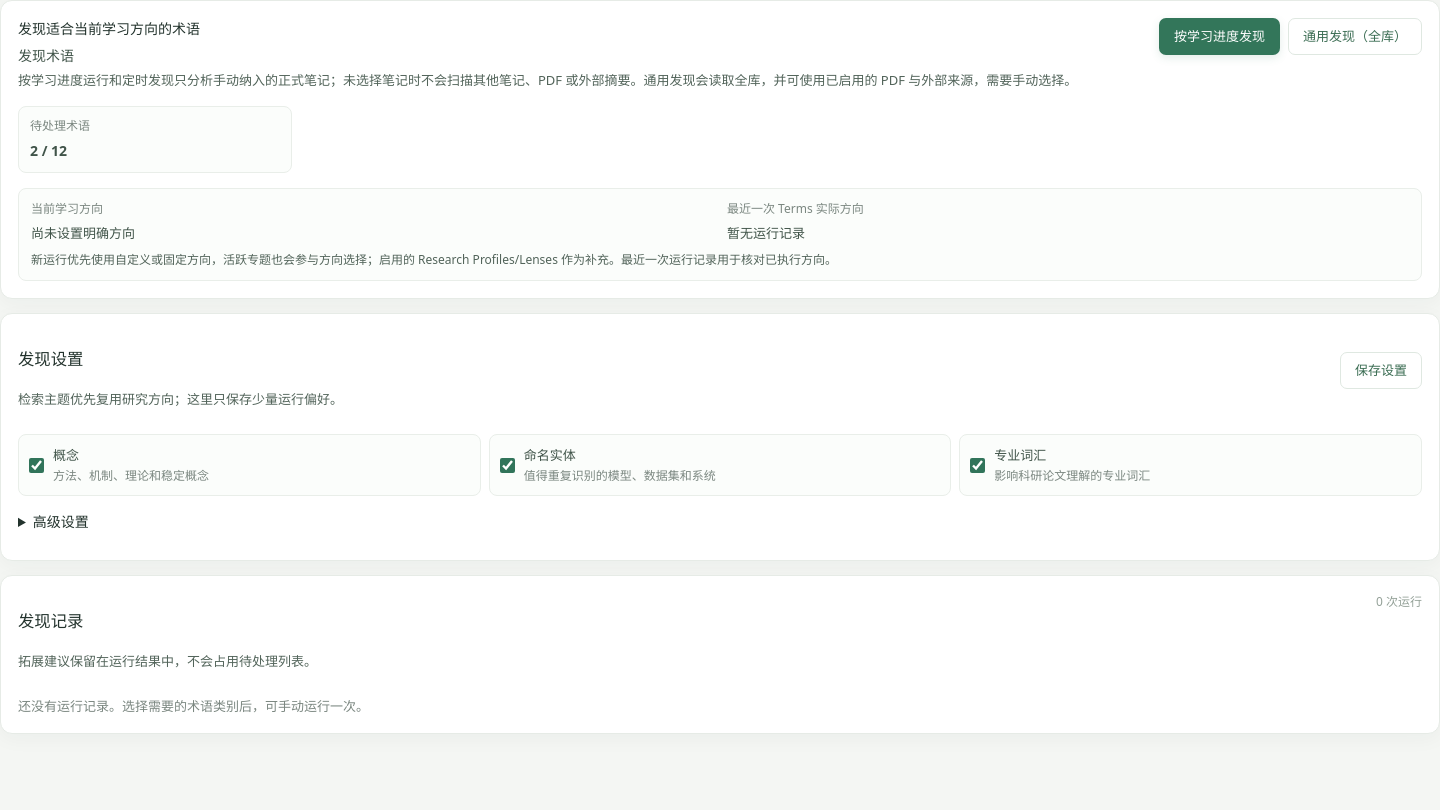
Test: 发现术语 panel › shows lane and inbox capacity and starts a manual run
The width and height of the screenshot is (1440, 810).
Expected: the heading "发现术语" is shown, top-left (18, 46), bottom-right (74, 65)
Expected: the text "2 / 12" is shown, top-left (30, 142), bottom-right (67, 160)
What coordinates should you click on to do the following:
click the button "按学习进度发现"
I would click on:
 (1220, 36)
Its box is top-left (1159, 18), bottom-right (1280, 55).
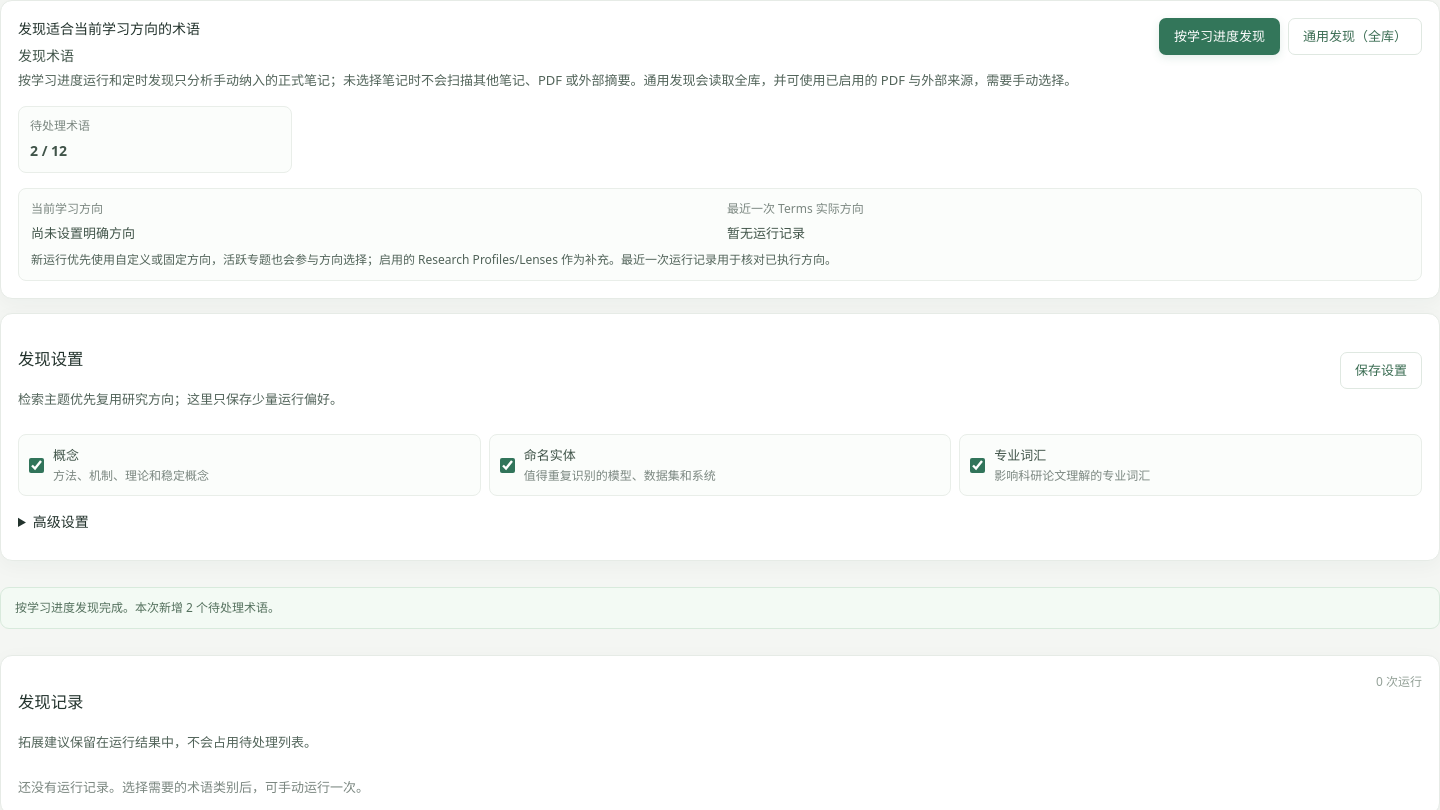
Result: the message shows "新增 2 个待处理术语" at top-left (15, 599), bottom-right (280, 616)
